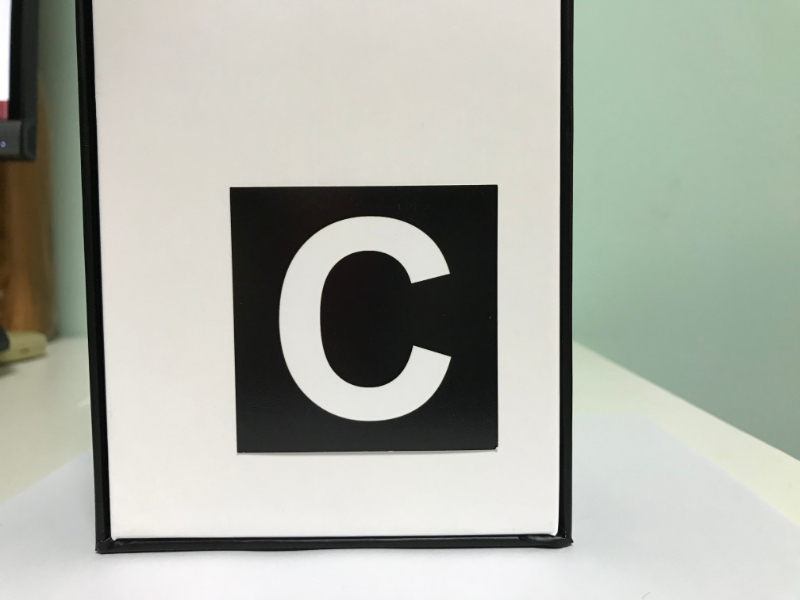C-13: (237, 190, 498, 448)
